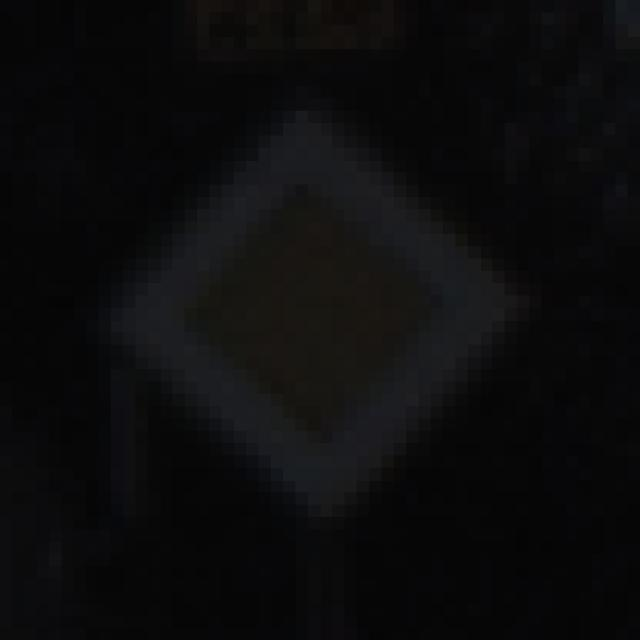Main Road: (63, 63, 580, 580)
